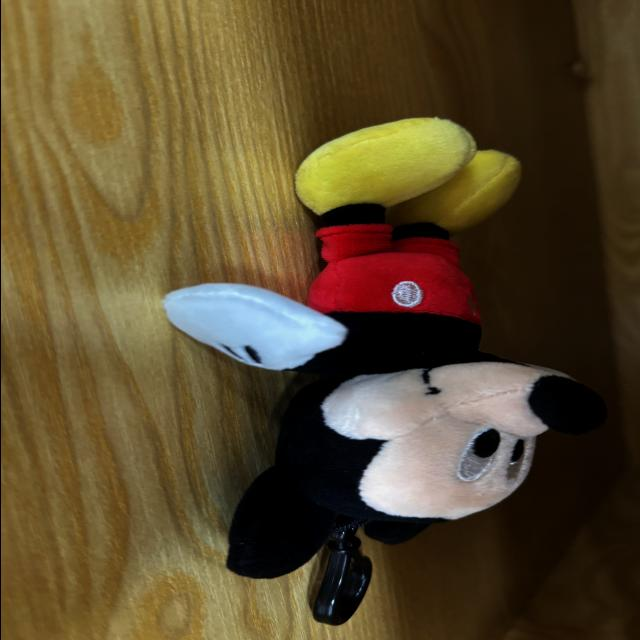mickey: (164, 119, 604, 578)
